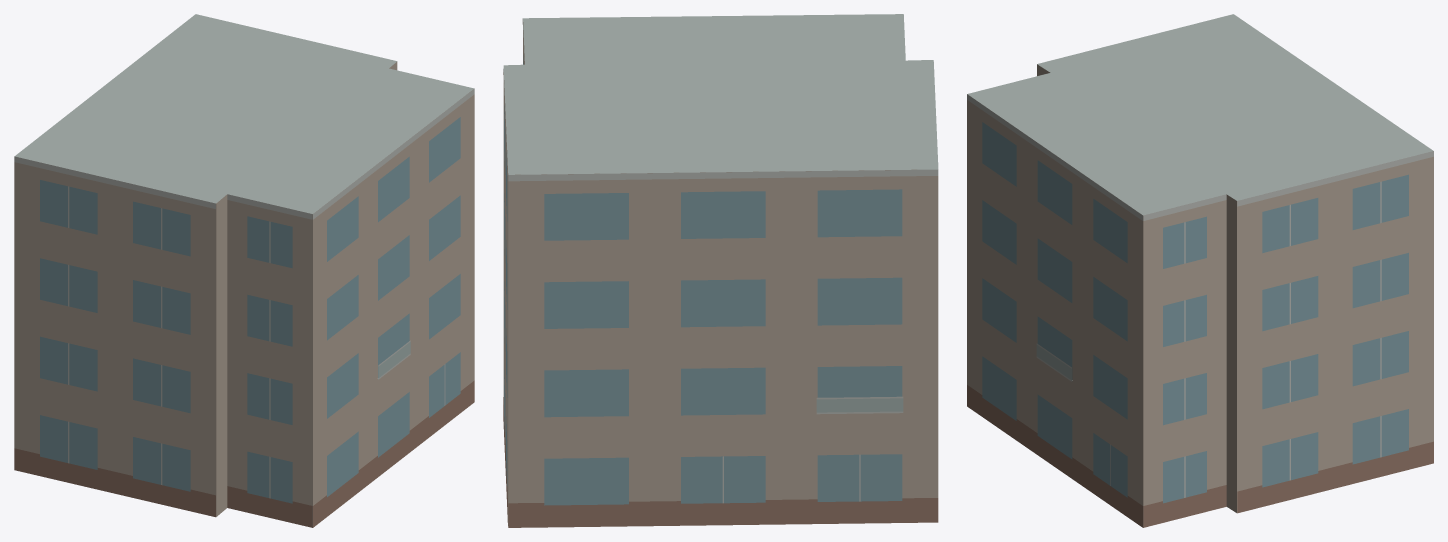
File: survey-upis-32714570.glb
3 renders of one model, left to right at view 1: azimuth 30°, elevation 25°; view 2: azimuth 150°, elevation 25°; view 3: azimuth 270°, elevation 25°, orthographic. The views are drawn at different scales.
Parts seen in each view (by area): view 1: survey-upis-32714570.tmp; view 2: survey-upis-32714570.tmp; view 3: survey-upis-32714570.tmp.
Part boxes in pixels (<box>): survey-upis-32714570.tmp: <box>14,14,474,527</box>; survey-upis-32714570.tmp: <box>503,14,938,527</box>; survey-upis-32714570.tmp: <box>967,14,1433,527</box>.
Bounding box in the file's own units: 18.55 × 13.4 × 18.15.
